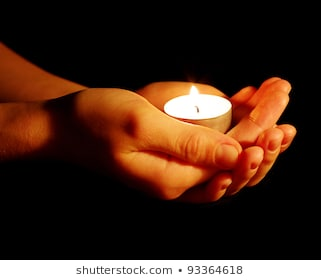Fire: (188, 84, 202, 113)
